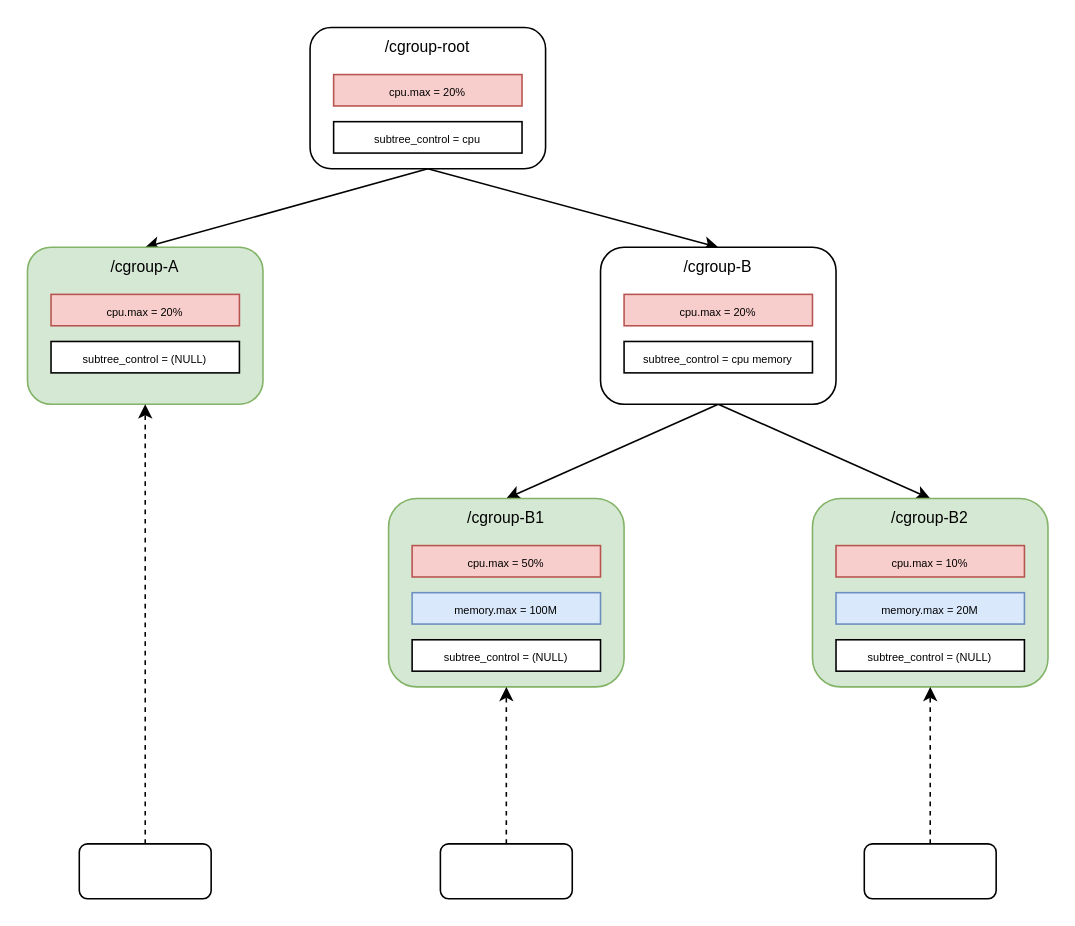
The diagram is 1075 pixels wide and 926 high, and some of its shapes have lost their labels. The centre of each missing label's shape, as x and y in pixels:
进程A: (144,870)
进程B1: (505,870)
进程B2: (929,870)
